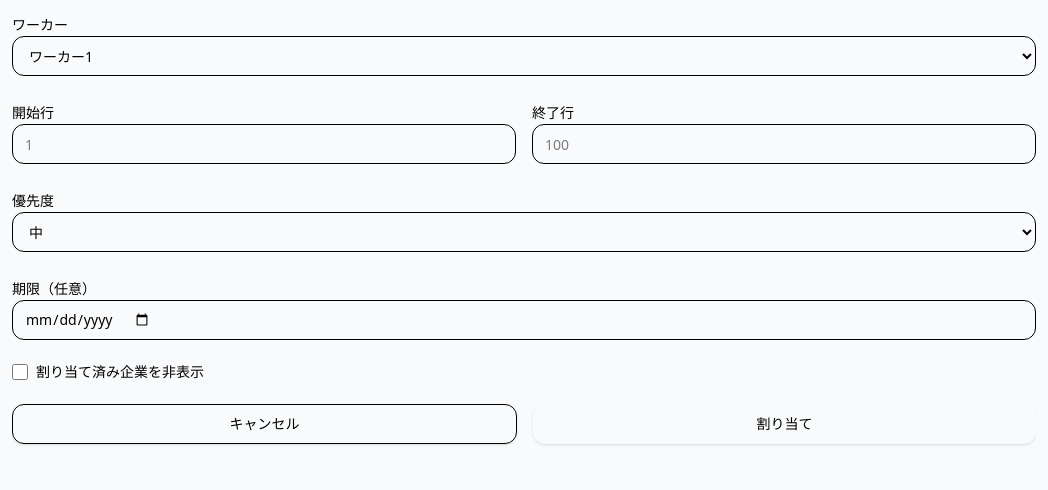
WorkerAssignmentForm › バリデーション › 開始行が未入力の場合エラーが表示される
The width and height of the screenshot is (1048, 490).
Click the button "割り当て" at [784, 424], box [533,404,1036,444]
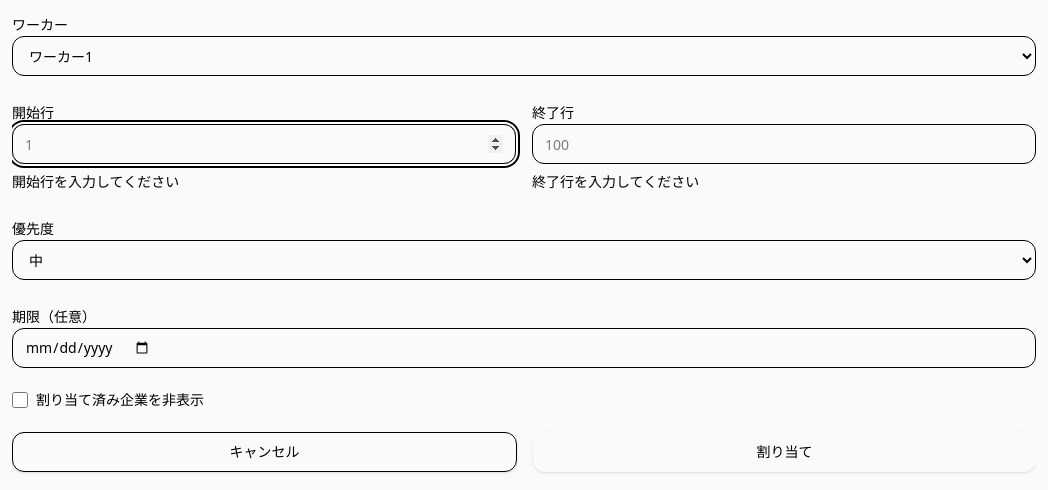
expect the text "開始行を入力してください" is shown: met, box [12,172,179,191]
